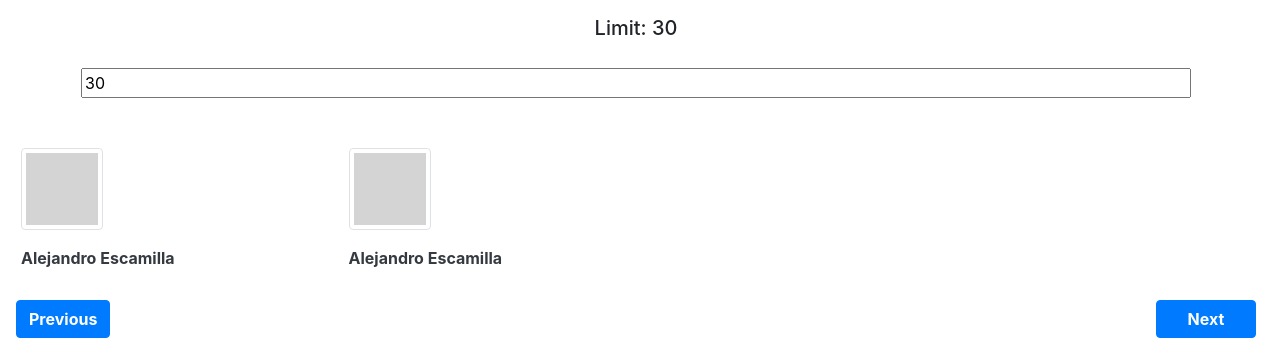
Test: Test for ImageList.vue component › Test for Limit is rendered
Replace the text in the field with id "limit" with "66" at (636, 83), box [81, 68, 1191, 98]
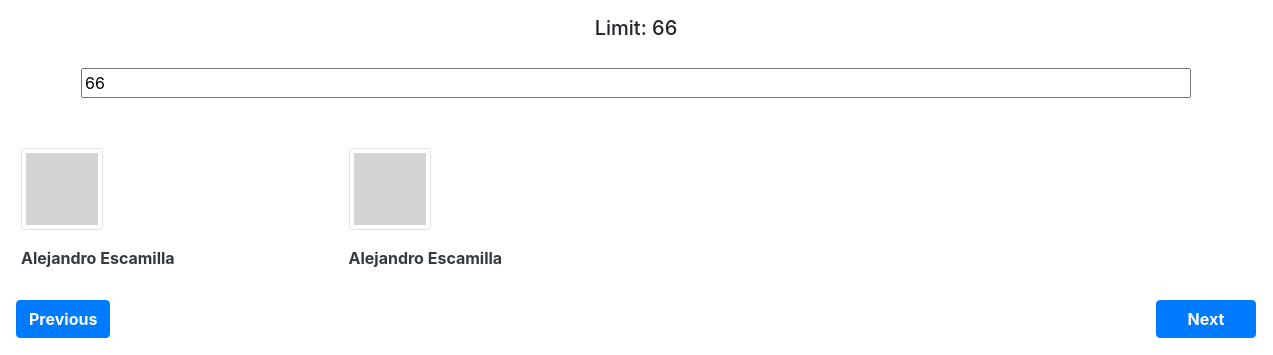
Now the heading "Limit: 66" is shown, box [595, 16, 677, 40]
